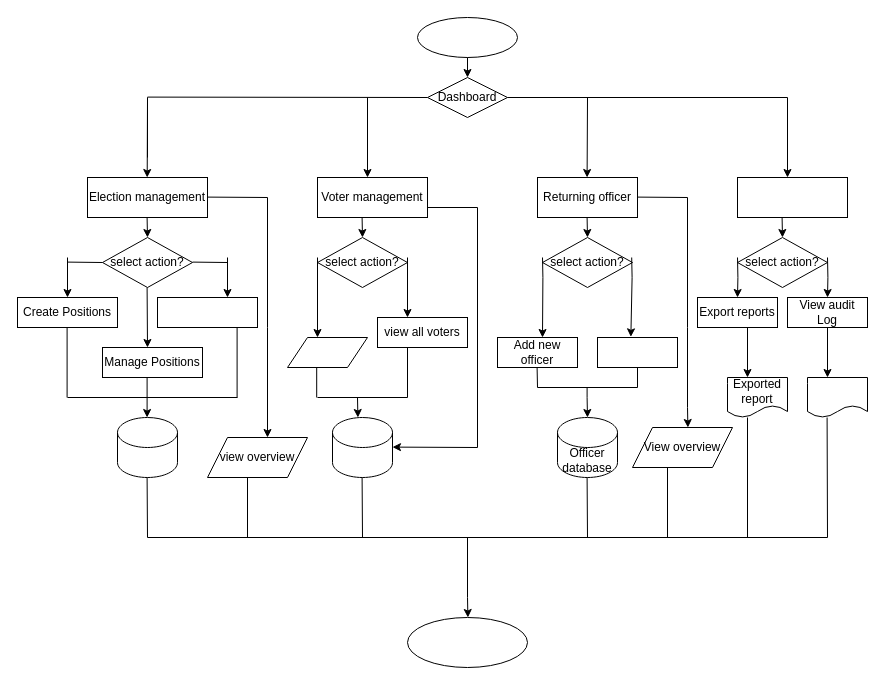
Some shapes in this 885 by 685 pixel diagram are drawn without their labels. Each missing label, with the centre of its shape:
"Audit log" goes at point (837, 397).
"candidate database" goes at point (147, 447).
"import voters" goes at point (327, 352).
"manage candidates" goes at point (207, 312).
"Reports and analytics" goes at point (792, 197).
"start: admin login" goes at point (467, 37).
"STOP" goes at point (467, 642).
"view officer list" goes at point (637, 352).
"voter database" goes at point (362, 447).
